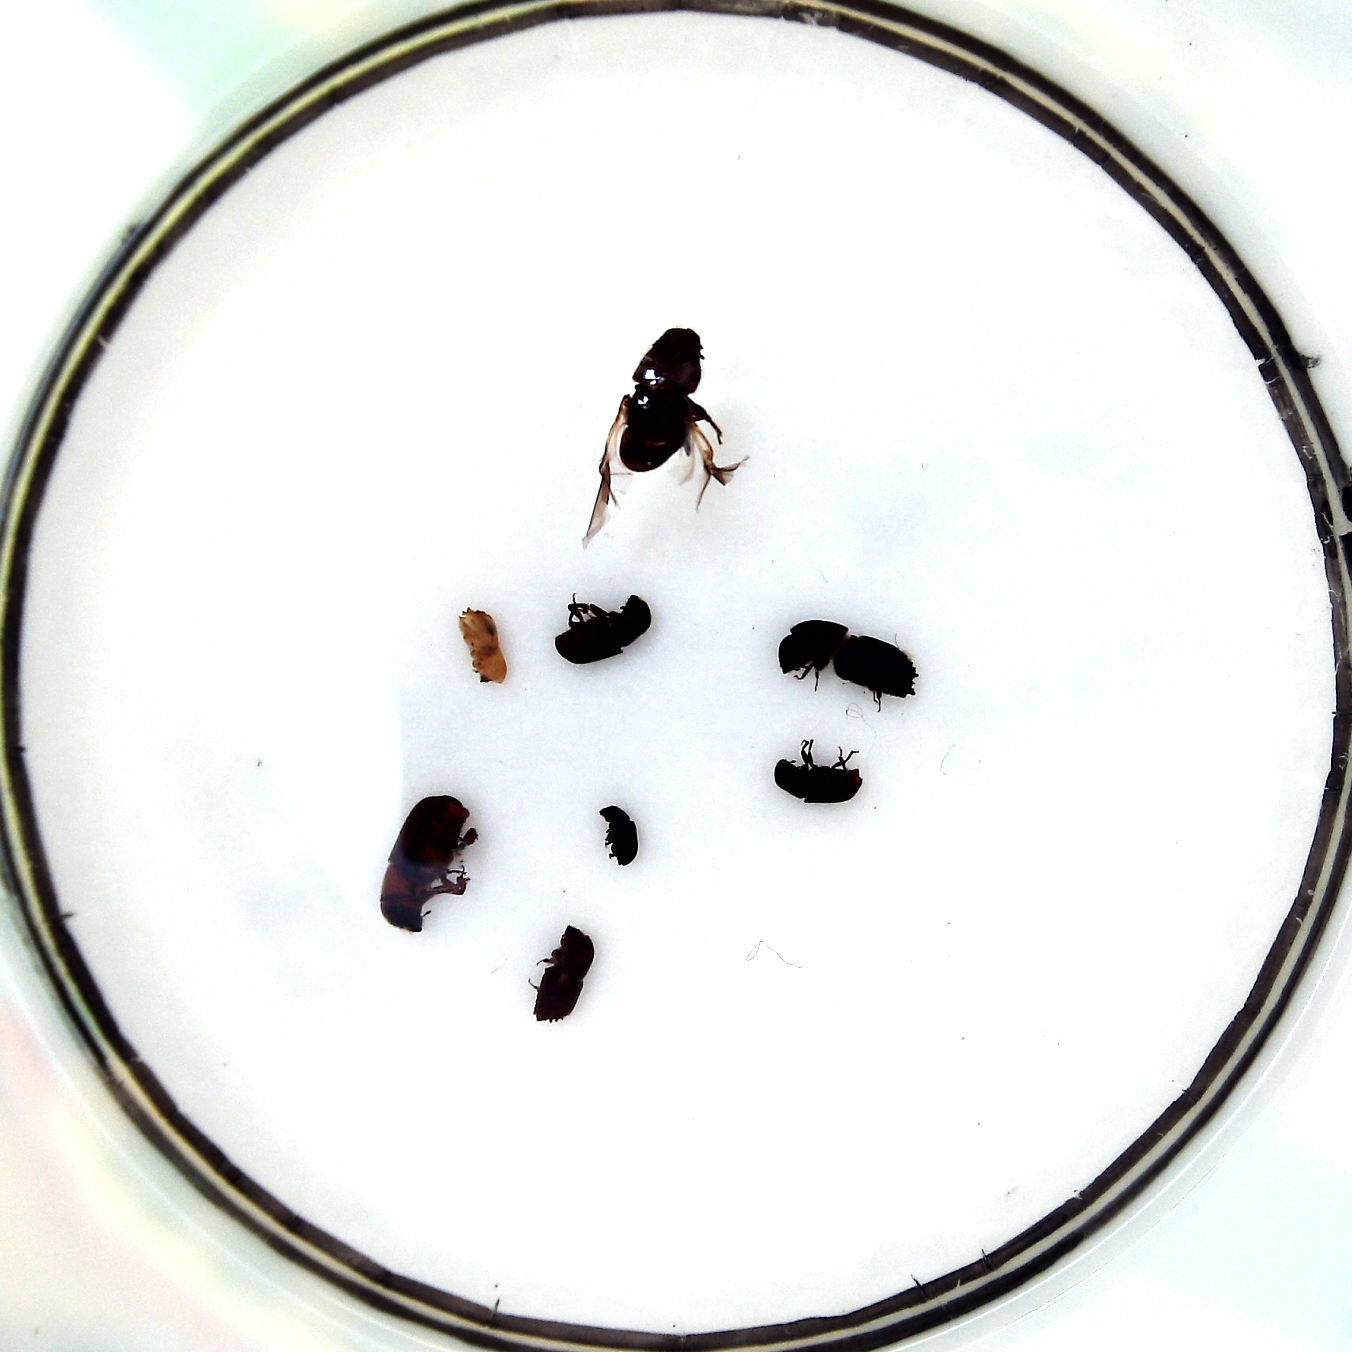Boerner: (778, 617, 917, 709)
Leconte: (378, 795, 479, 932), (617, 327, 704, 470)
acuminatus: (597, 804, 639, 868)
armandi: (553, 592, 651, 665), (773, 735, 863, 805)
coleoptera: (457, 607, 508, 686)
linnaeus: (527, 922, 596, 1024)
